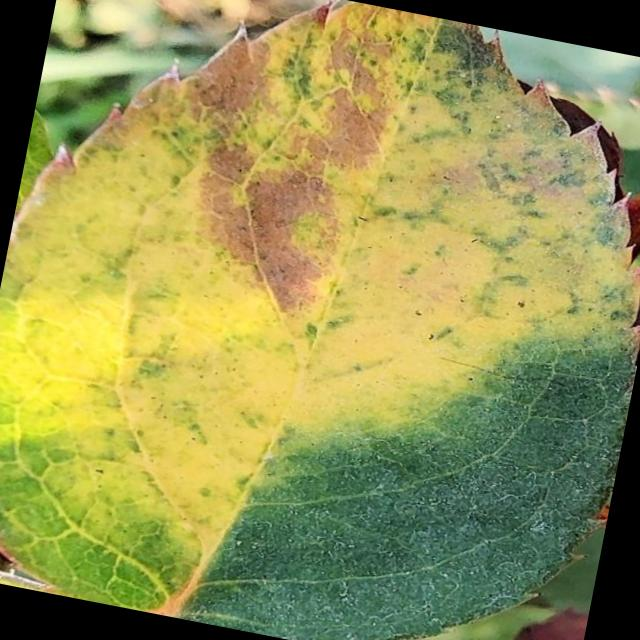Black_spot: (172, 127, 352, 326)
Rose: (0, 0, 640, 640)
